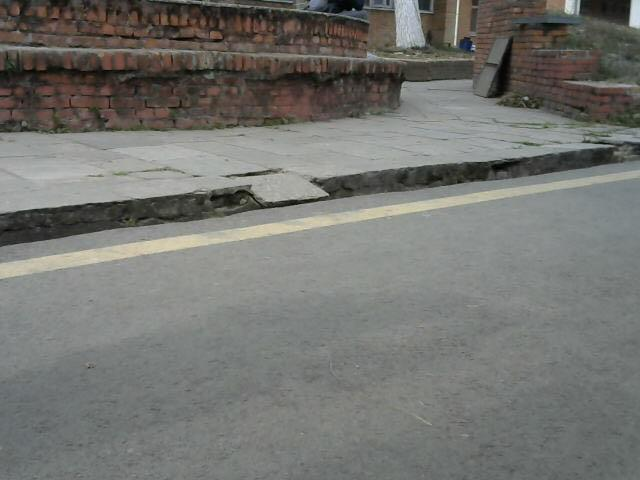Road: (0, 164, 640, 480)
